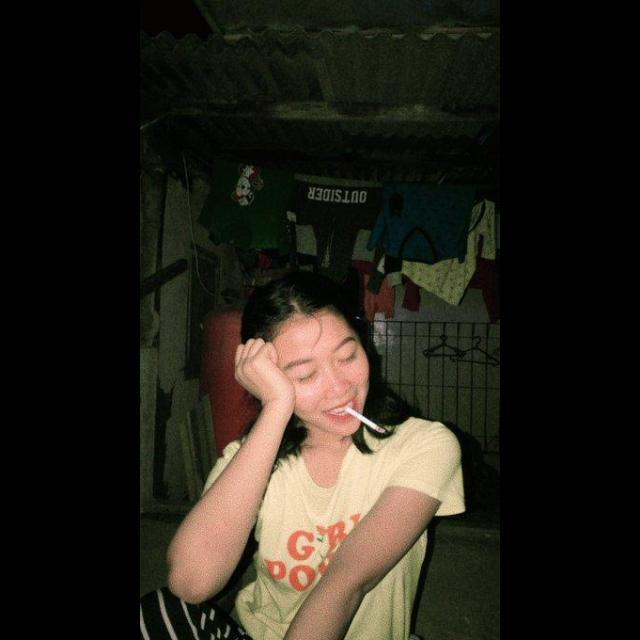rokok: (338, 400, 388, 436)
